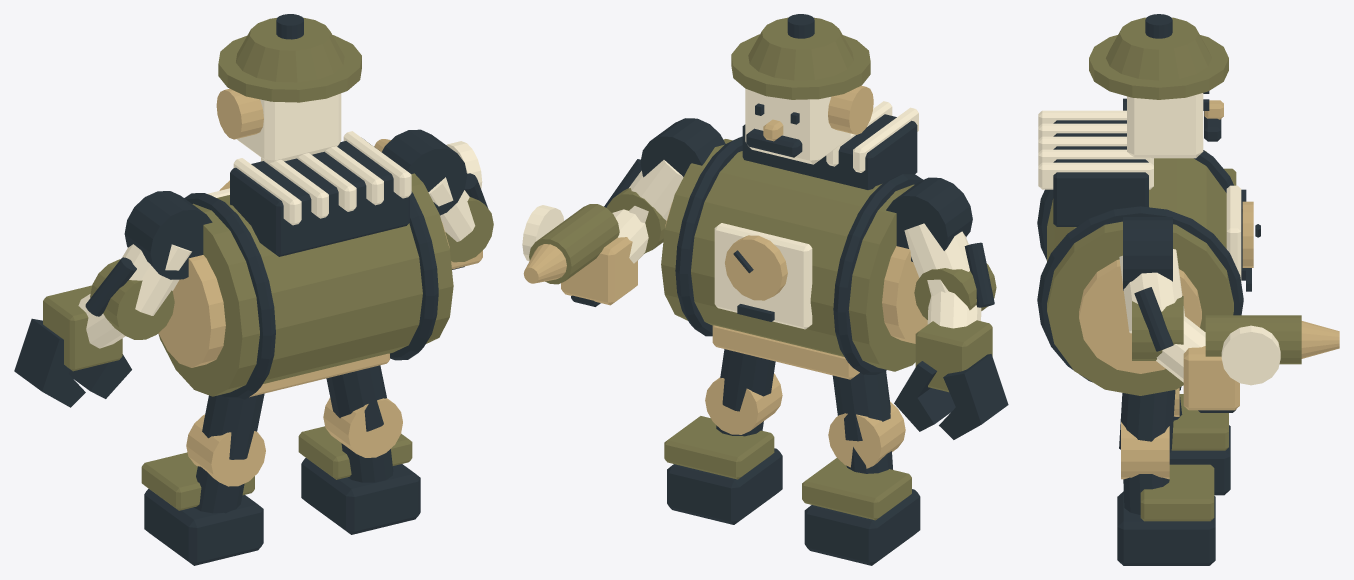
3 renders of one model, left to right at view 1: azimuth 30°, elevation 25°; view 2: azimuth 150°, elevation 25°; view 3: azimuth 270°, elevation 25°, orthographic. The views are drawn at different scales.
Parts seen in each view (by area): view 1: compressor_tank, motor_housing, R_shoe, L_shoe, bell_hardhat, tank_end_0, engineer_head, L_shoulder_pin, bell_hardhat_brim, tank_band_0, R_shoulder_pin, vice_palm (+26 smaller); view 2: compressor_tank, L_shoe, R_shoe, motor_housing, front_bib, bell_hardhat, L_shoe_cover, R_shoe_cover, engineer_head, L_shoulder_pin, bell_hardhat_brim, tank_band_0 (+28 smaller); view 3: compressor_tank, motor_housing, tank_end_1, R_shoe, bell_hardhat, engineer_head, tank_band_1, bell_hardhat_brim, R_shoe_cover, R_shoulder_pin, R_hand, airtool_pressure_wheel (+21 smaller).
Part boxes in pixels (left/top/right/bottom): compressor_tank: left=158, top=173, right=453, bottom=396; motor_housing: left=230, top=139, right=409, bottom=256; R_shoe: left=301, top=458, right=420, bottom=534; L_shoe: left=144, top=488, right=263, bottom=565; bell_hardhat: left=236, top=17, right=344, bottom=82; tank_end_0: left=158, top=255, right=225, bottom=367; engineer_head: left=236, top=93, right=341, bottom=163; L_shoulder_pin: left=124, top=191, right=212, bottom=279; bell_hardhat_brim: left=218, top=35, right=361, bottom=102; tank_band_0: left=184, top=193, right=275, bottom=399; R_shoulder_pin: left=382, top=129, right=467, bottom=215; vice_palm: left=43, top=285, right=122, bottom=371; compressor_tank: left=661, top=139, right=915, bottom=371; L_shoe: left=804, top=489, right=920, bottom=565; R_shoe: left=667, top=448, right=782, bottom=524; motor_housing: left=742, top=114, right=917, bottom=189; front_bib: left=714, top=223, right=812, bottom=329; bell_hardhat: left=748, top=17, right=853, bottom=80; L_shoe_cover: left=802, top=458, right=911, bottom=520; R_shoe_cover: left=664, top=416, right=774, bottom=479; engineer_head: left=745, top=88, right=850, bottom=164; L_shoulder_pin: left=886, top=177, right=972, bottom=261; bell_hardhat_brim: left=731, top=34, right=870, bottom=99; tank_band_0: left=833, top=174, right=923, bottom=374; compressor_tank: left=1047, top=151, right=1233, bottom=395; motor_housing: left=1053, top=120, right=1148, bottom=226; tank_end_1: left=1079, top=259, right=1201, bottom=373; R_shoe: left=1117, top=491, right=1215, bottom=565; bell_hardhat: left=1106, top=17, right=1211, bottom=80; engineer_head: left=1127, top=93, right=1203, bottom=158; tank_band_1: left=1037, top=206, right=1243, bottom=382; bell_hardhat_brim: left=1089, top=35, right=1228, bottom=99; R_shoe_cover: left=1140, top=464, right=1214, bottom=521; R_shoulder_pin: left=1123, top=217, right=1172, bottom=290; R_hand: left=1183, top=346, right=1239, bottom=410; airtool_pressure_wheel: left=1221, top=325, right=1280, bottom=385.
Bounding box in the file's own units: 2.07 × 2.23 × 1.23.
